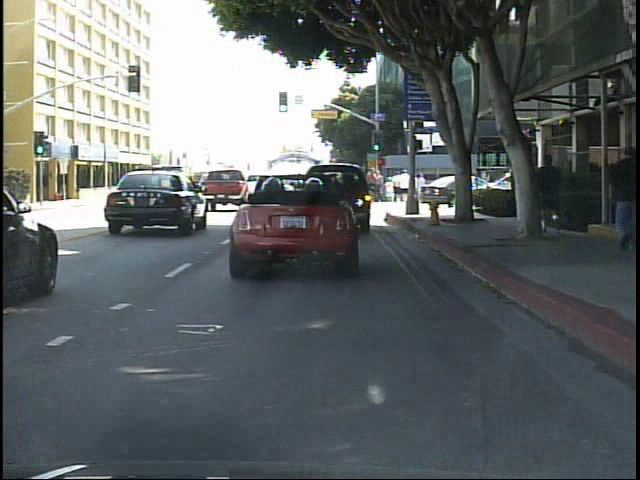person: (605, 141, 638, 260), (539, 146, 571, 237), (128, 175, 147, 202)
